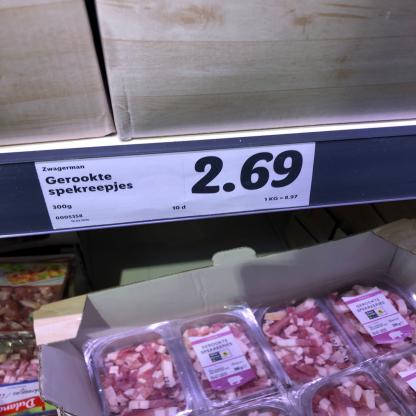prtg: (35, 142, 316, 231)
